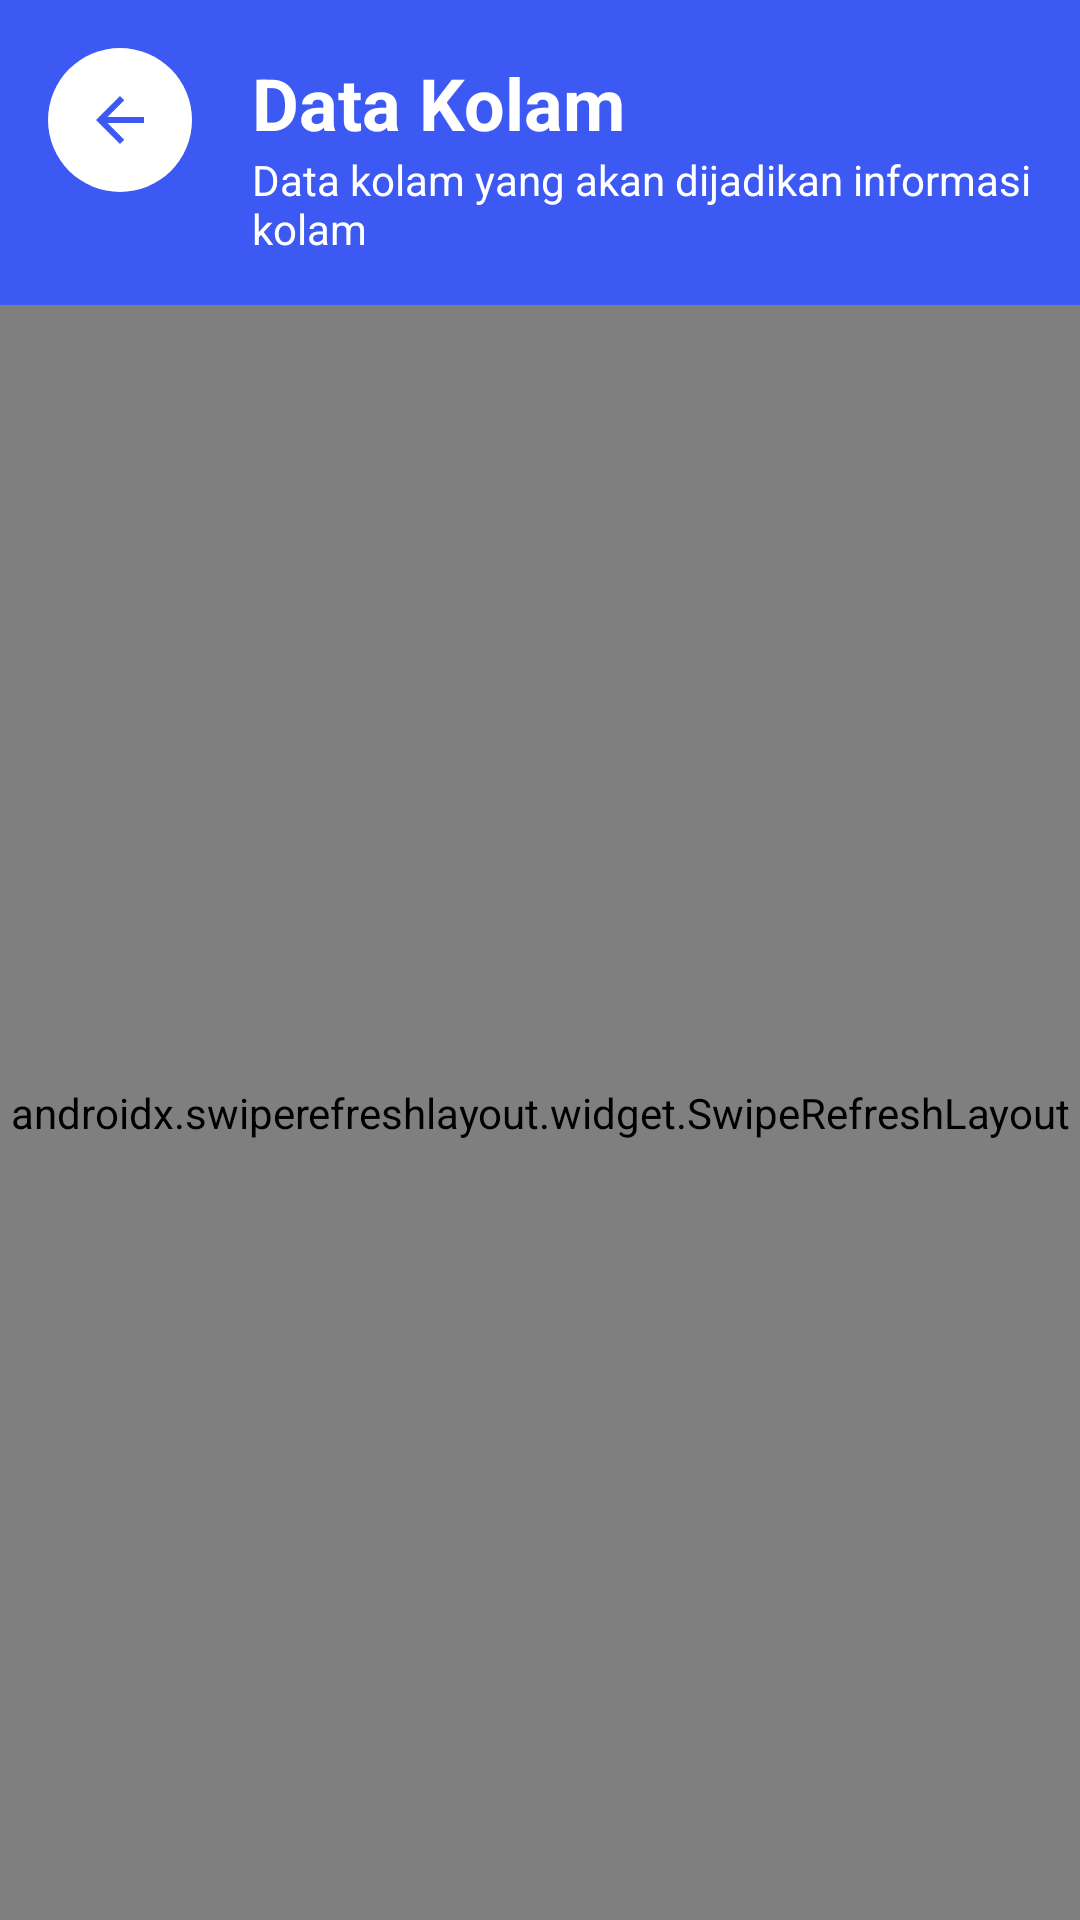

Where to tap for icons on this 1080px x 1920px app screen, as (x=x, y=y):
back arrow: (x=120, y=120)
